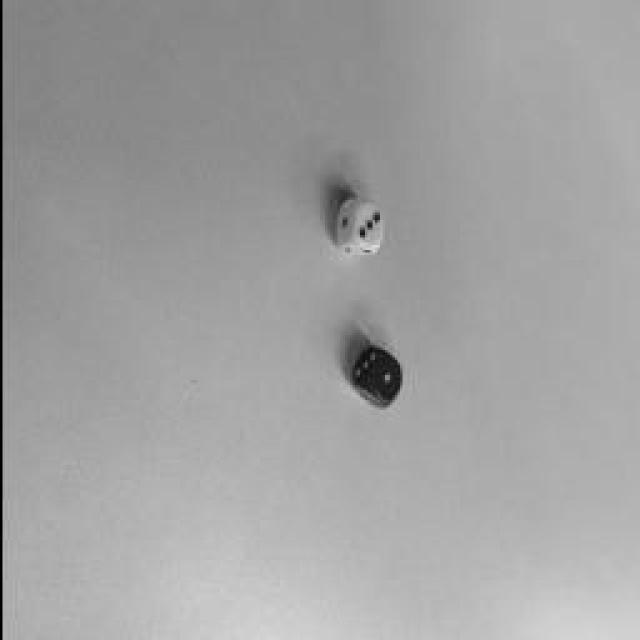dice_1: (368, 352, 400, 402)
dice_3: (351, 201, 381, 249)
